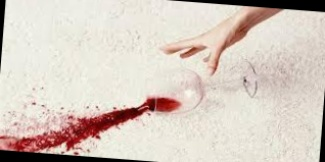wine: (0, 80, 169, 160)
